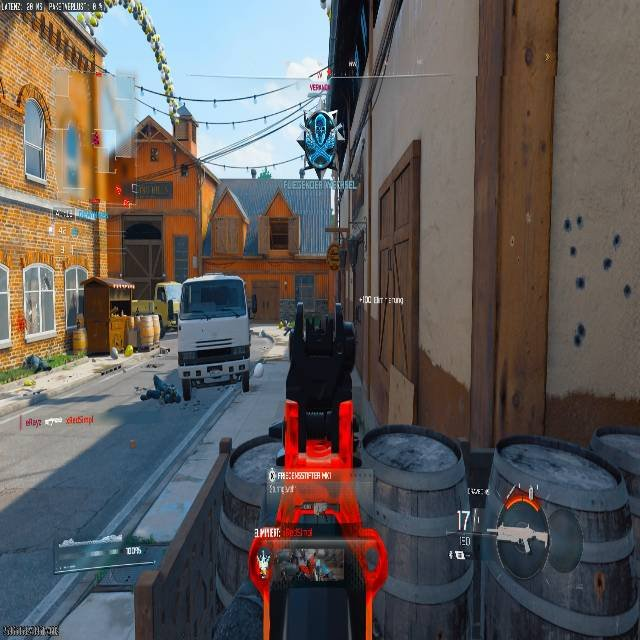head: (152, 374, 161, 386)
